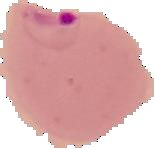parasitized: (13, 3, 86, 50)
